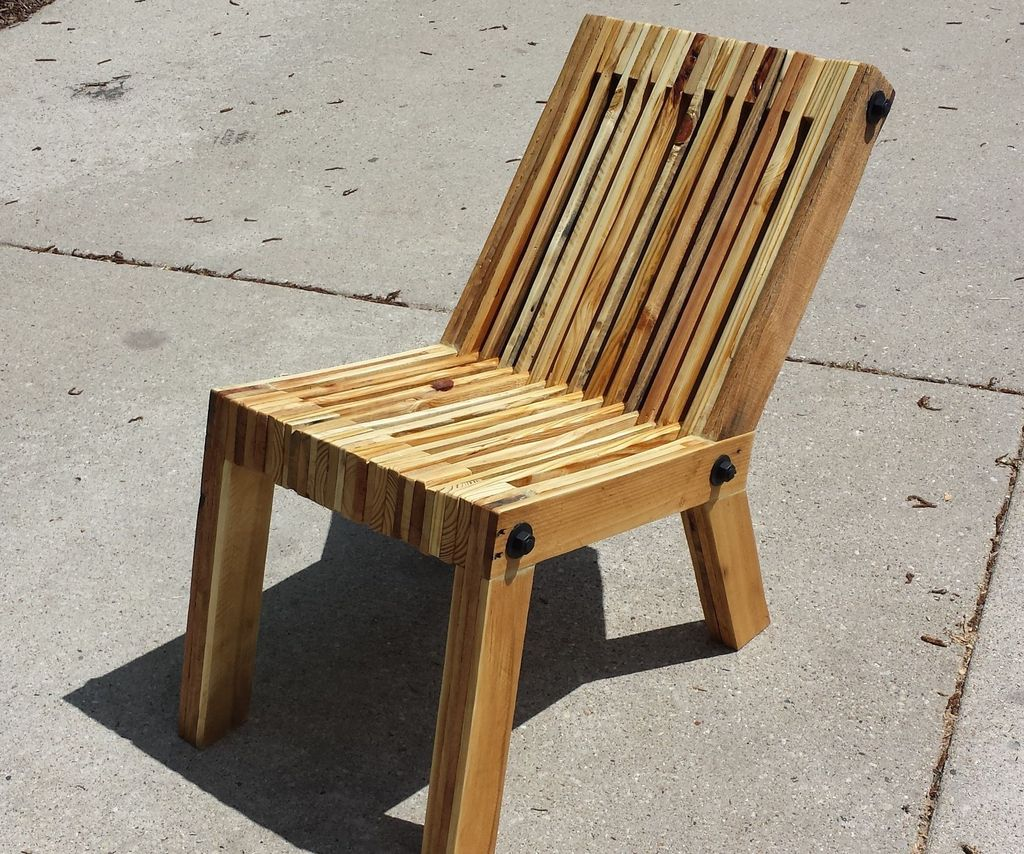chairs: (177, 12, 899, 853)
